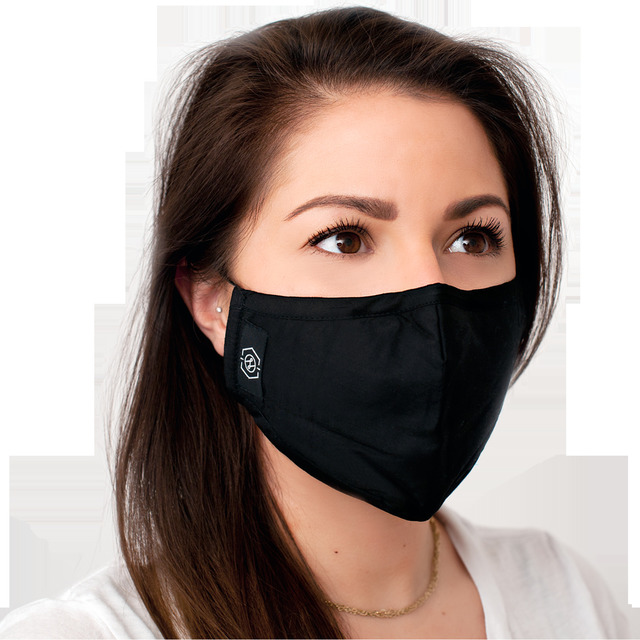mask: (243, 288, 531, 500)
